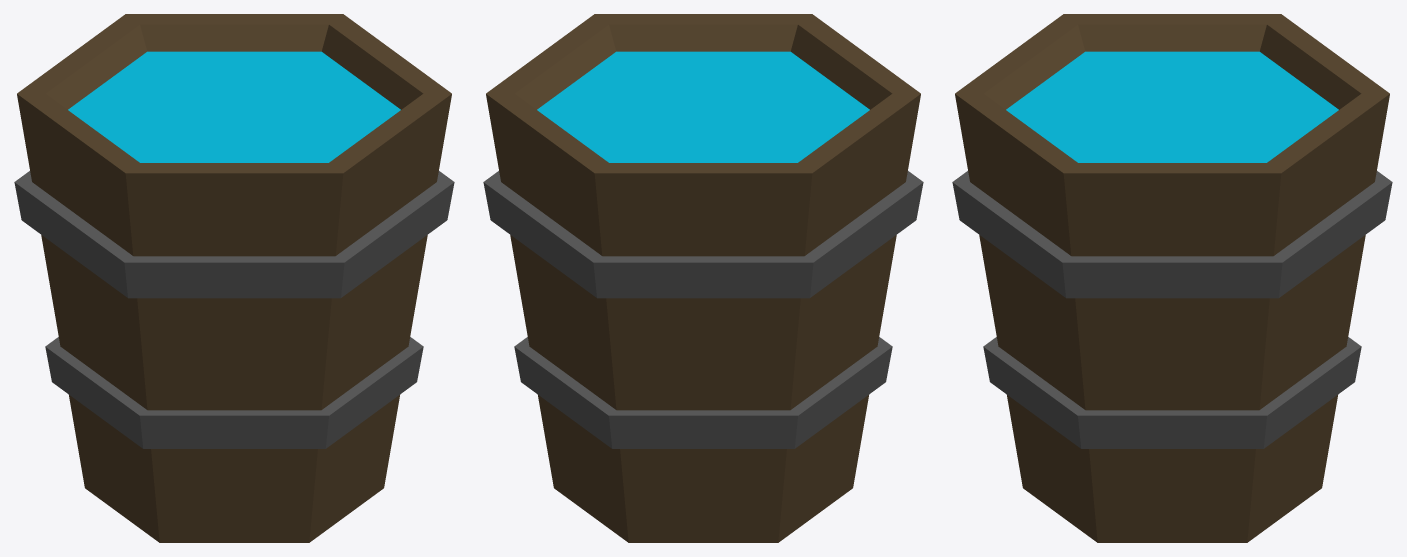
Rendered from Bucket.fbx.
3 renders of one model, left to right at view 1: azimuth 30°, elevation 25°; view 2: azimuth 150°, elevation 25°; view 3: azimuth 270°, elevation 25°, orthographic.
Parts seen in each view (by area): view 1: Bucket; view 2: Bucket; view 3: Bucket.
Part boxes in pixels (left/top/right/bottom): Bucket: left=14, top=14, right=454, bottom=542; Bucket: left=483, top=14, right=923, bottom=542; Bucket: left=952, top=14, right=1392, bottom=542.
Size of the model in its own units: 27 by 30.84 by 31.18.
